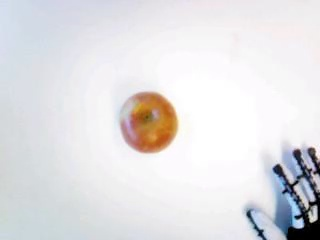apple: (119, 90, 176, 152)
hand: (244, 142, 320, 240)
